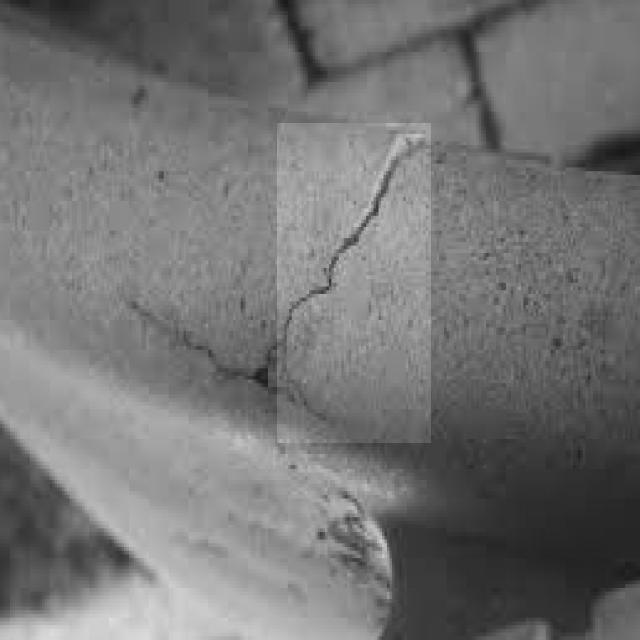crack: (279, 124, 433, 444)
